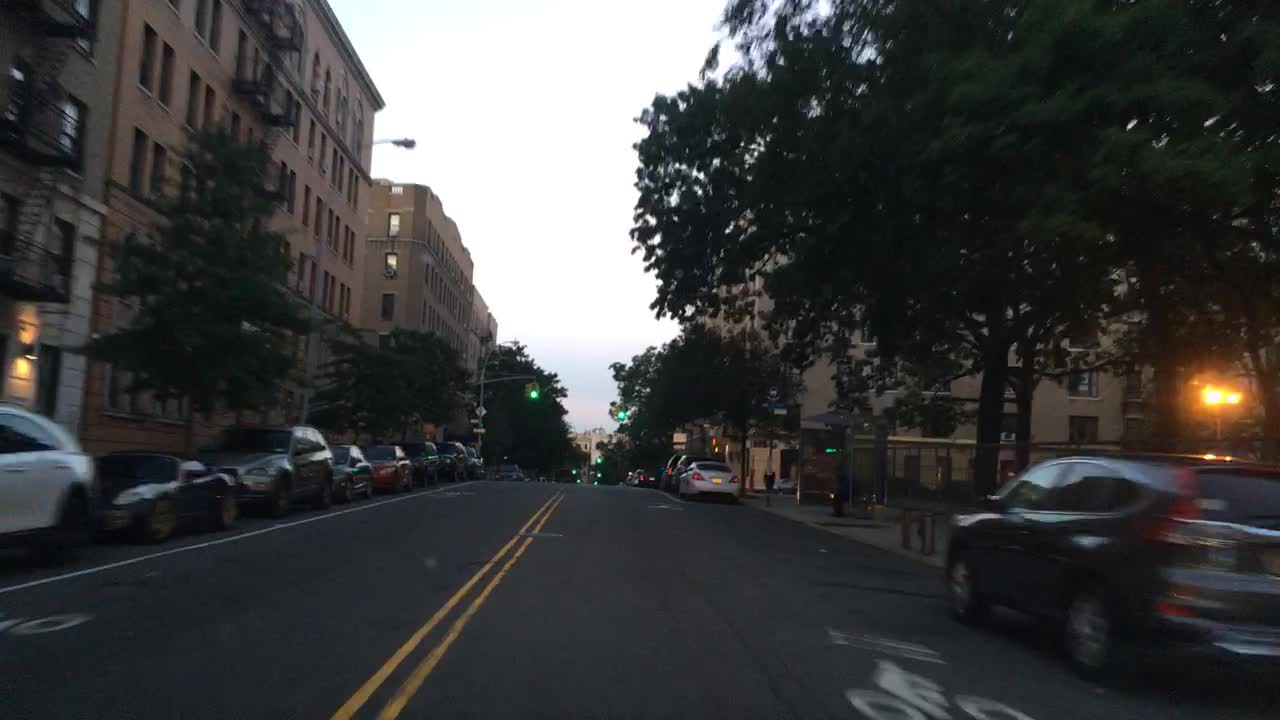car: (944, 448, 1278, 713), (90, 443, 245, 543), (0, 402, 92, 566), (202, 420, 335, 514), (330, 439, 378, 503), (679, 460, 741, 500), (364, 445, 411, 494), (405, 440, 437, 486), (436, 439, 468, 480), (676, 453, 708, 486), (464, 443, 488, 482), (655, 454, 682, 486), (630, 469, 656, 488), (497, 465, 523, 480), (774, 480, 794, 495)
traffic light: (615, 396, 626, 420), (530, 381, 540, 400), (566, 463, 578, 474), (592, 471, 604, 480), (594, 453, 601, 468), (522, 381, 528, 398)
traffic sign: (470, 419, 485, 434), (473, 401, 486, 414)
